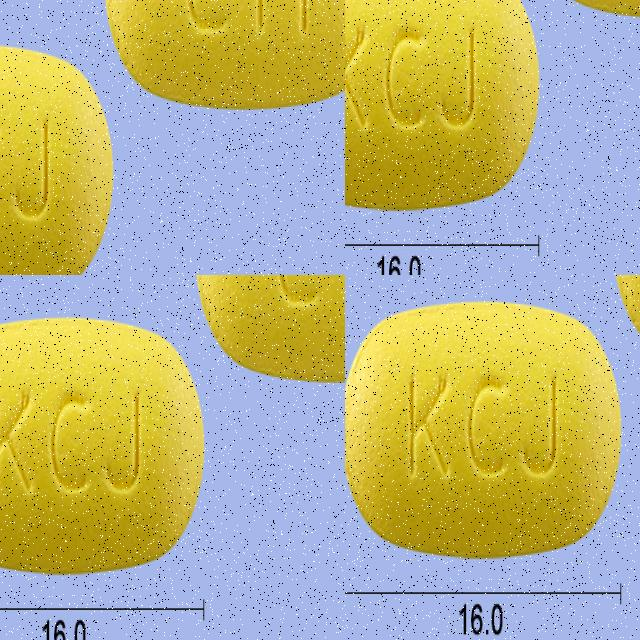Clamon Tab: (345, 290, 626, 563)
Clar - 500mg: (345, 0, 549, 215)
Cyclin: (0, 306, 209, 571)
Doxycycline Hyclate Cap: (0, 154, 240, 275)
